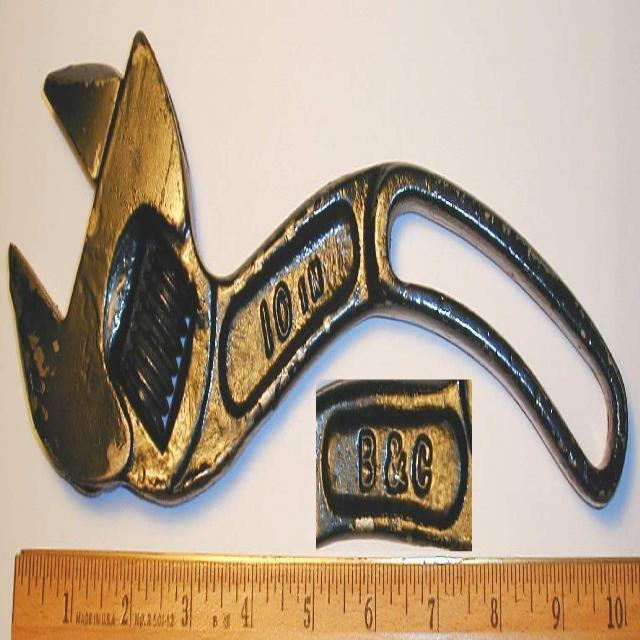wrench: (2, 16, 618, 516)
